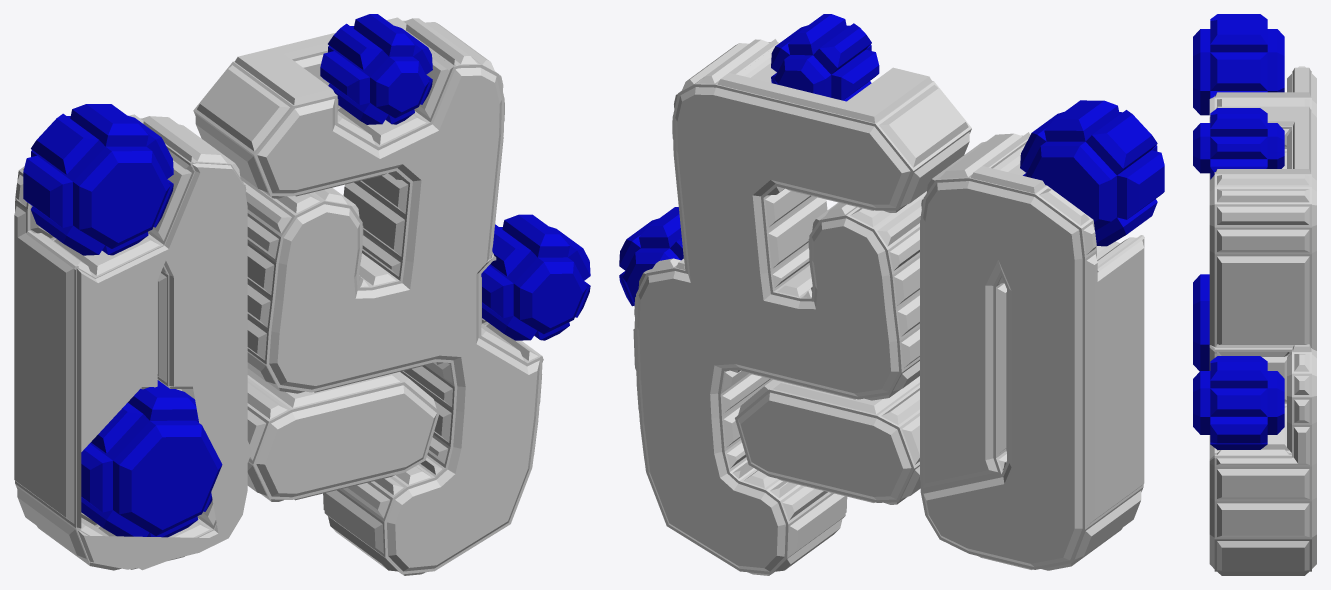
The model's file is Ch_China_吗_01.fbx.
The picture shows the model from 3 angles, left to right: view 1: azimuth 30°, elevation 25°; view 2: azimuth 150°, elevation 25°; view 3: azimuth 270°, elevation 25°; orthographic projection. The views are drawn at different scales.
Parts seen in each view (by area): view 1: sphere1; view 2: sphere1; view 3: sphere1.
Boxes of the visible parts, <box> form: sphere1: <box>14,14,590,575</box>; sphere1: <box>619,14,1164,575</box>; sphere1: <box>1193,14,1316,575</box>.
Size of the model in its own units: 1.02 by 0.997 by 0.2541.
